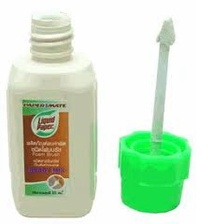correction_fluid: (4, 7, 98, 219)
